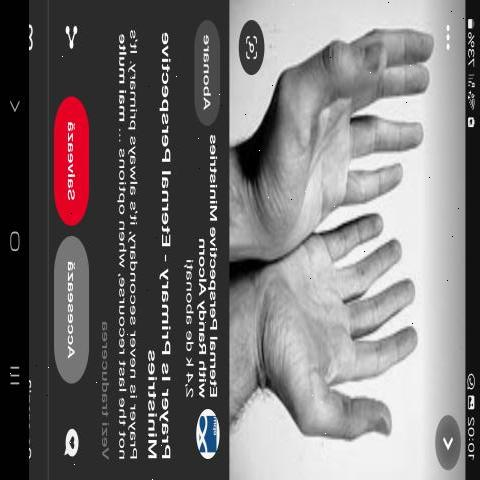Hands: (232, 207, 456, 466), (235, 13, 458, 206)
